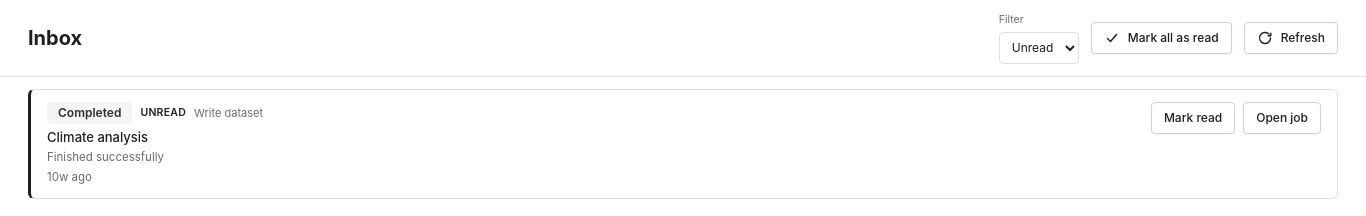
InboxView › empties the Unread filter after a confirmed mark-all response
The width and height of the screenshot is (1366, 216).
Expected: the text "Climate analysis" is shown, top-left (47, 129), bottom-right (148, 145)
Click the button "Mark all as read": (1161, 38) top-left (1091, 22), bottom-right (1232, 54)
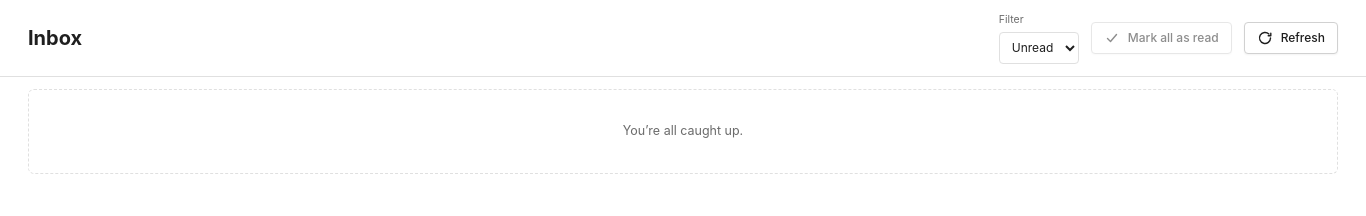
Expected: the text "You’re all caught up." is shown, top-left (28, 89), bottom-right (1338, 174)
Expected: the text "Climate analysis" is gone
Expected: the button "Mark all as read" is disabled, top-left (1091, 22), bottom-right (1232, 54)
